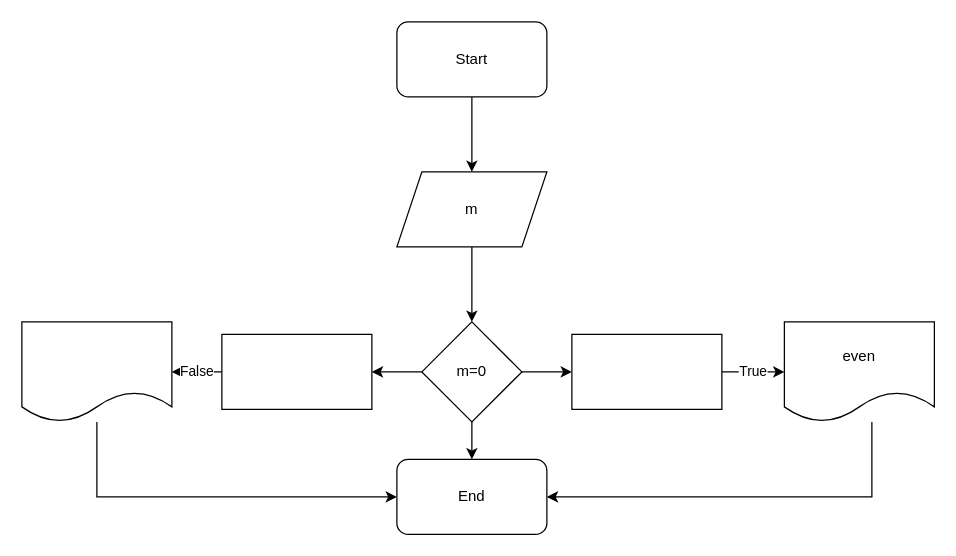
The diagram is 956 pixels wide and 556 high, and some of its shapes have lost their labels. The shapes that lost their labels are listed below. From the top down, each one's box as (x1, y1, x2, y2) in pixels, then its label:
(21, 321, 172, 422): odd
(221, 333, 372, 409): m%2=1
(571, 333, 722, 409): m%2=0
